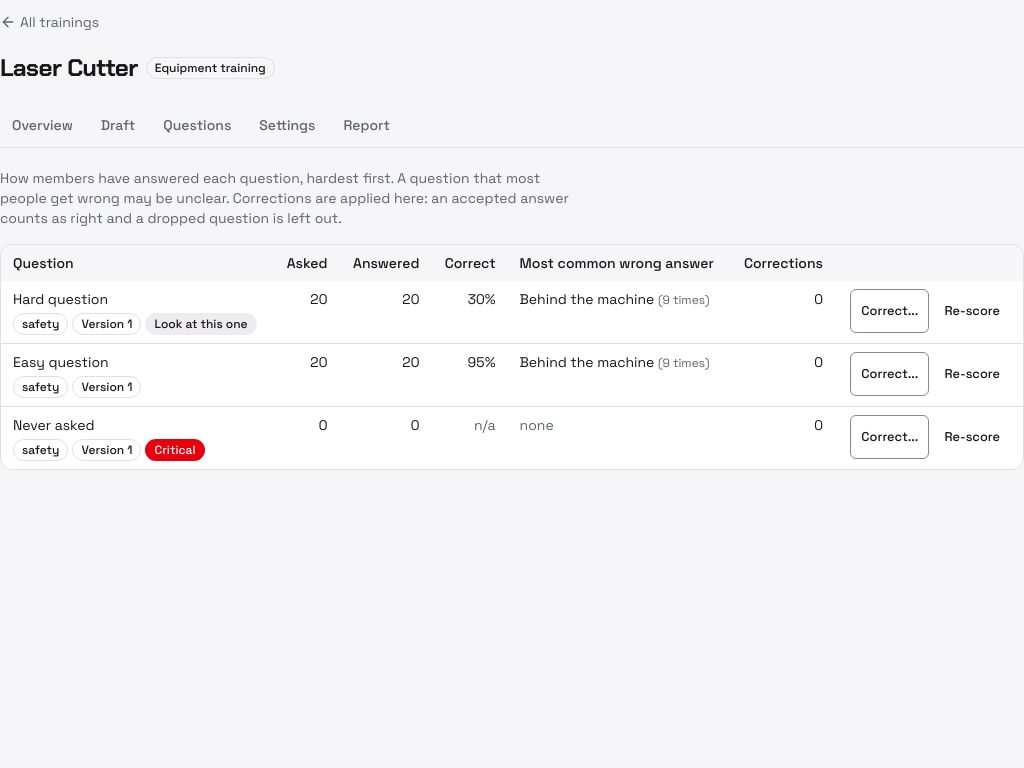
QuestionReport corrections › accepts another option with a reason and shows the read-only re-score
The width and height of the screenshot is (1024, 768).
Expected: the heading "Laser Cutter" is shown, [0, 52, 138, 84]
Click the button with aria-label "correct: hard question": (890, 311) [850, 289, 929, 333]
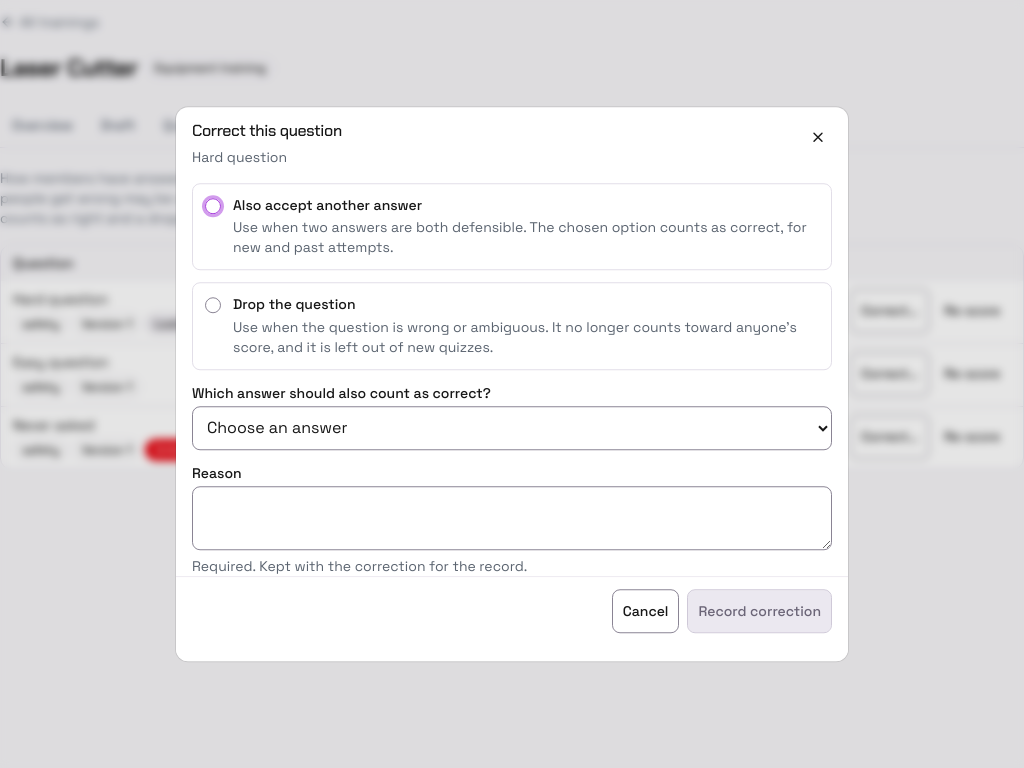
Select "On the side panel" in the dropdown labelled "Which answer should also count as correct?": (512, 428) [192, 406, 832, 450]
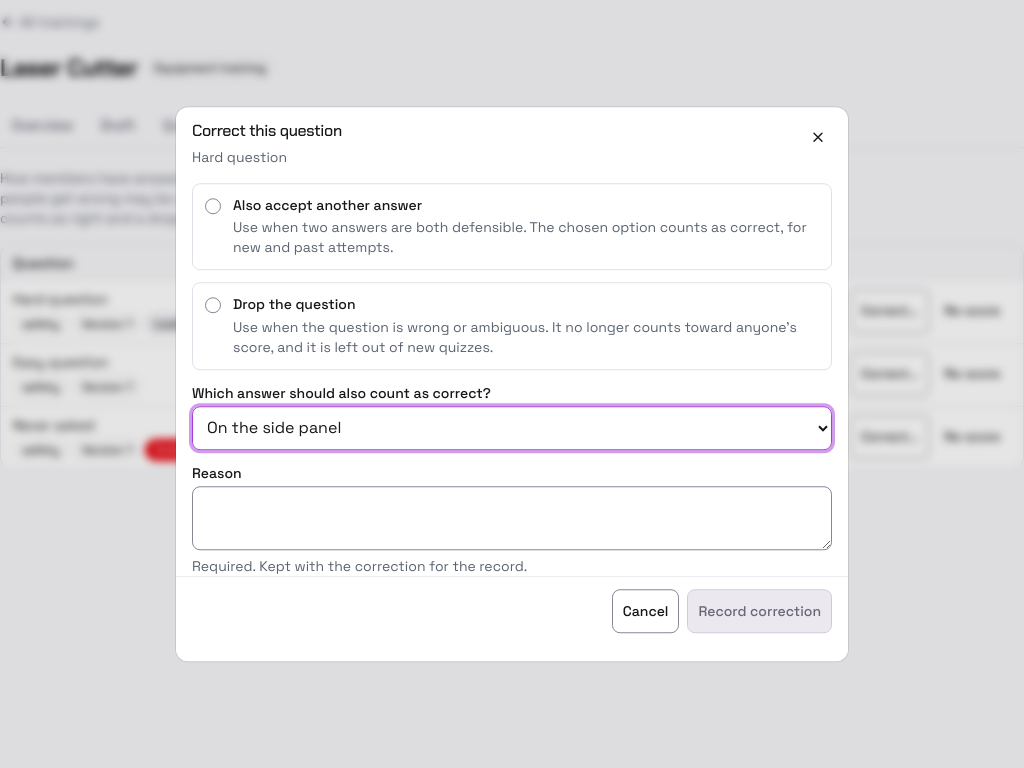
In the text box labelled "Reason": (512, 518) [192, 486, 832, 550], type "  Both are defensible "
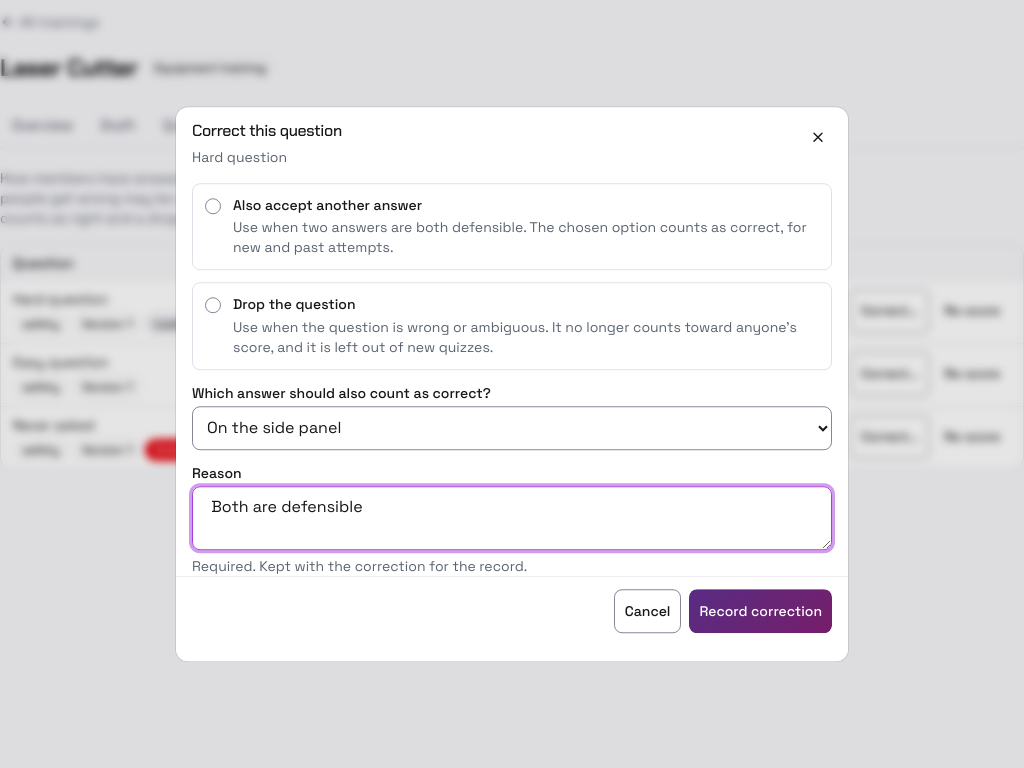
Click the button "Record correction": (761, 611) [690, 589, 832, 633]
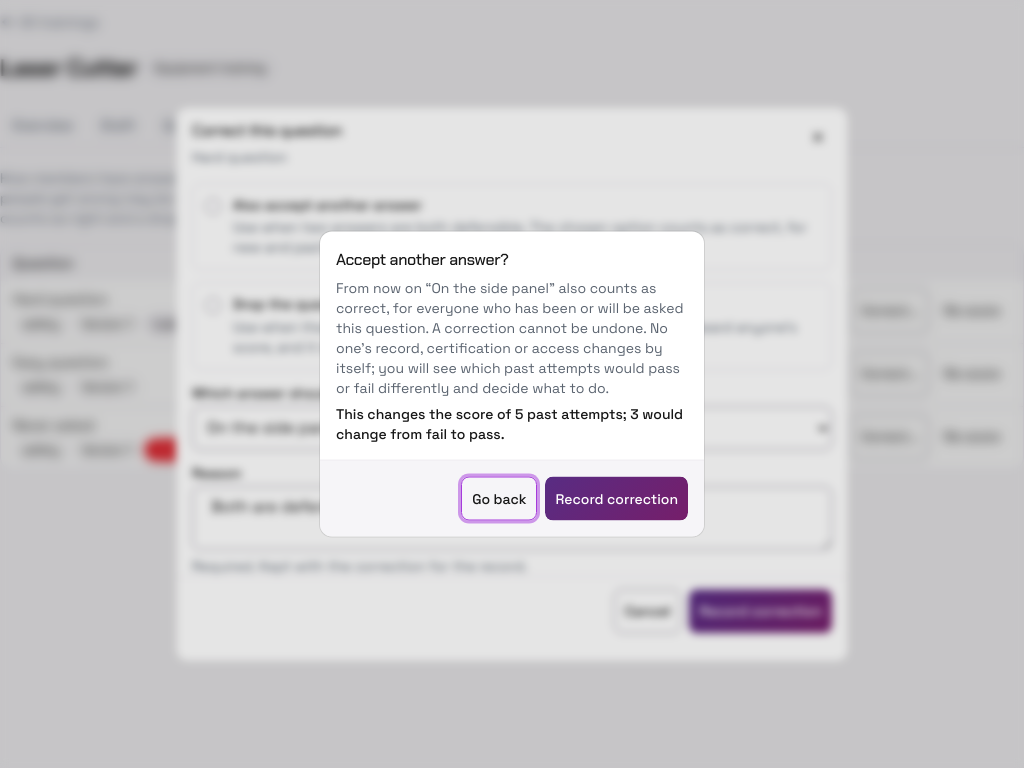
Now the text "This changes the score" is shown, box [336, 404, 683, 442]
Click the button "Record correction": (617, 498) [546, 476, 688, 520]
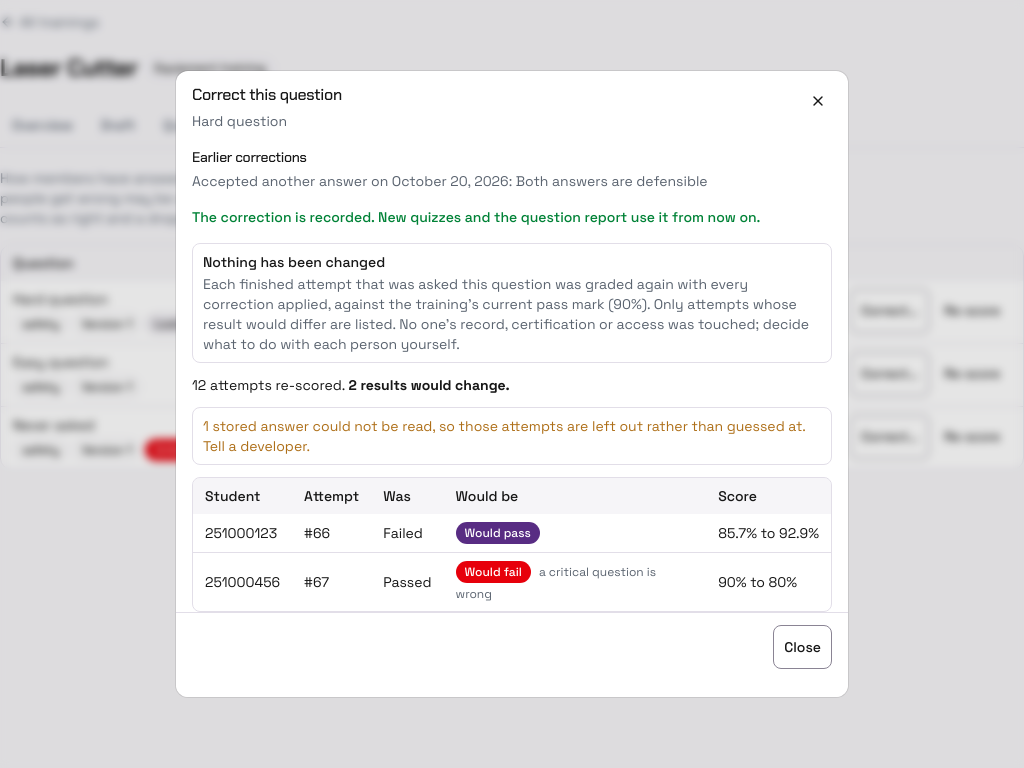
Now the text "Nothing has been changed" is shown, box [203, 253, 385, 271]
Now the text "2 results would change." is shown, box [348, 376, 510, 394]
Now the text "251000123" is shown, box [193, 514, 292, 552]
